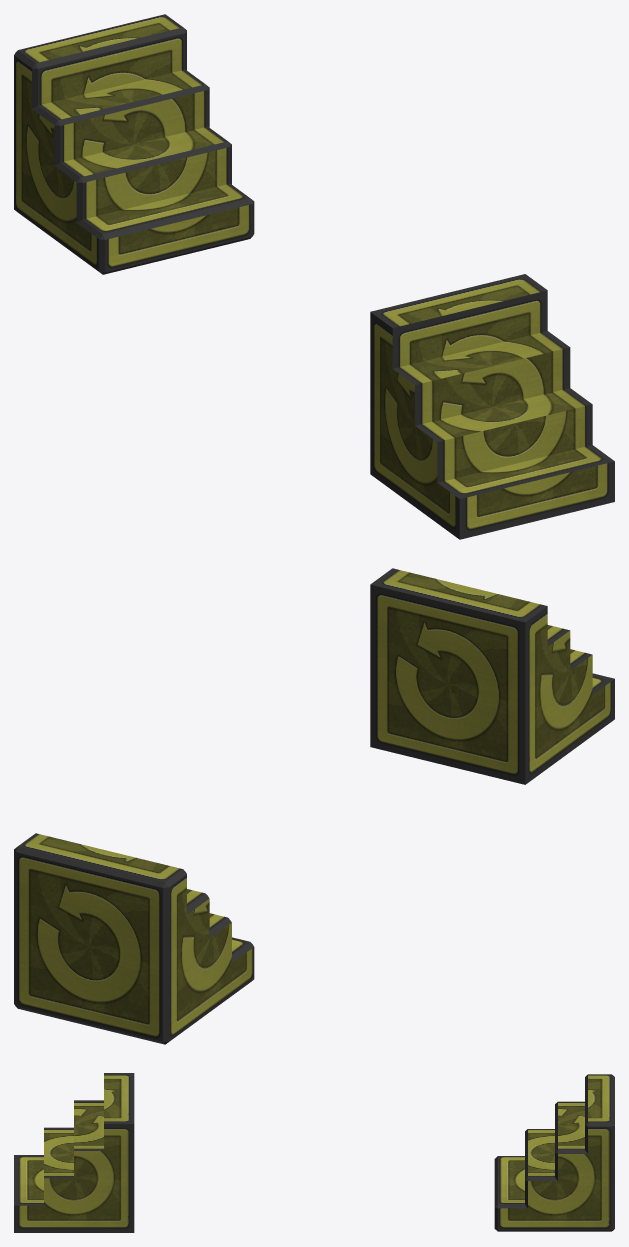
The model's file is step4.fbx.
The picture shows the model from 3 angles, top to bottom: view 1: azimuth 30°, elevation 25°; view 2: azimuth 150°, elevation 25°; view 3: azimuth 270°, elevation 25°; orthographic projection. The views are drawn at different scales.
Visible parts, largest first — view 1: MESH step4, MESH step4.c; view 2: MESH step4, MESH step4.c; view 3: MESH step4, MESH step4.c.
Part boxes in pixels (left/top/right/bottom): MESH step4: left=370, top=274, right=614, bottom=539; MESH step4.c: left=14, top=14, right=254, bottom=274; MESH step4: left=370, top=568, right=614, bottom=784; MESH step4.c: left=14, top=833, right=254, bottom=1044; MESH step4: left=14, top=1073, right=134, bottom=1232; MESH step4.c: left=494, top=1074, right=614, bottom=1231.
Size of what is drawn, in the model's own units: 100 by 100 by 500.
